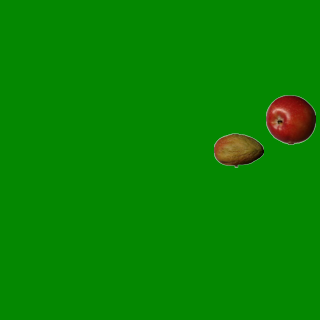Apple Braeburn: (265, 94, 315, 144)
Papaya: (213, 125, 263, 175)
